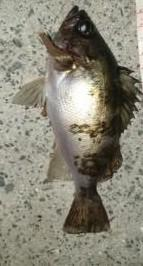fish: (12, 6, 141, 235)
